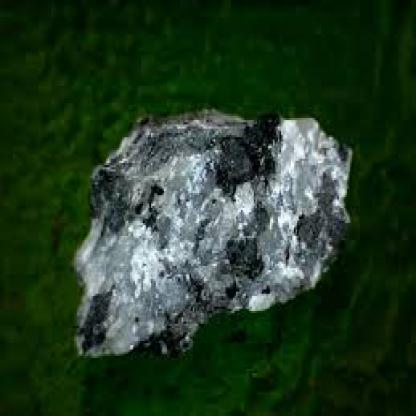Igneous_Diorite: (69, 90, 358, 358)
